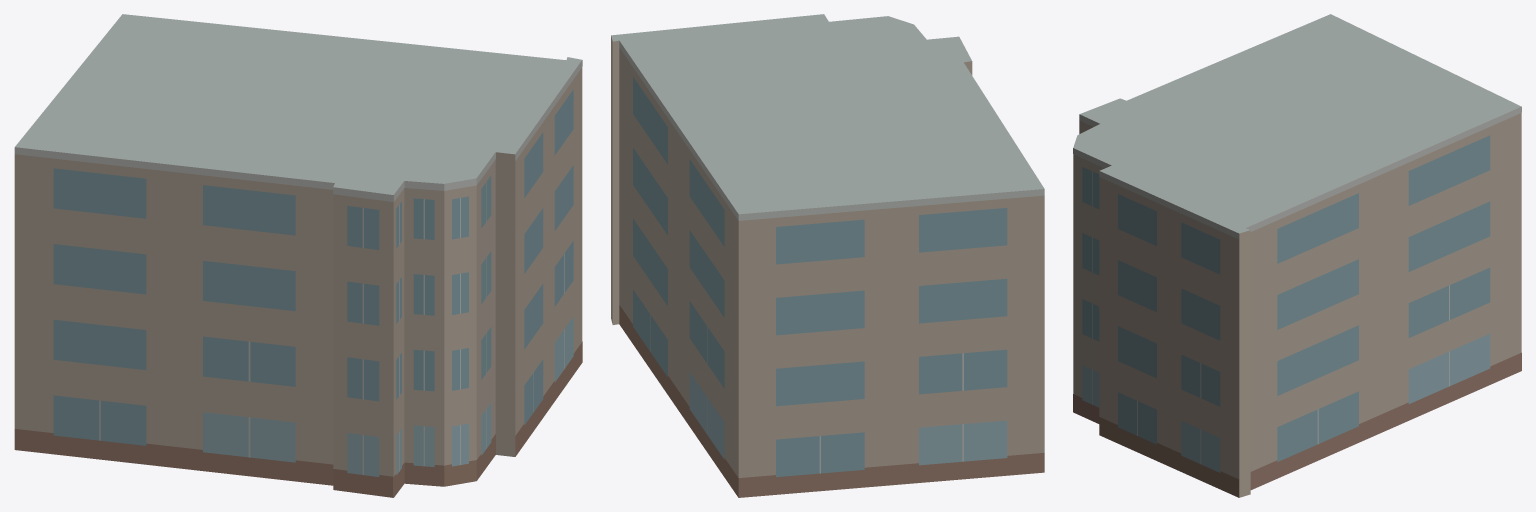
File: survey-upis-32914693.glb
The picture shows the model from 3 angles, left to right: view 1: azimuth 30°, elevation 25°; view 2: azimuth 150°, elevation 25°; view 3: azimuth 270°, elevation 25°; orthographic projection. The views are drawn at different scales.
Parts seen in each view (by area): view 1: survey-upis-32914693.tmp; view 2: survey-upis-32914693.tmp; view 3: survey-upis-32914693.tmp.
Boxes of the visible parts, x1,y1,x2,y2 form: survey-upis-32914693.tmp: [14, 14, 582, 497]; survey-upis-32914693.tmp: [611, 14, 1044, 497]; survey-upis-32914693.tmp: [1073, 14, 1521, 497].
Size of the model in its own units: 18.8 by 10.55 by 16.24.
